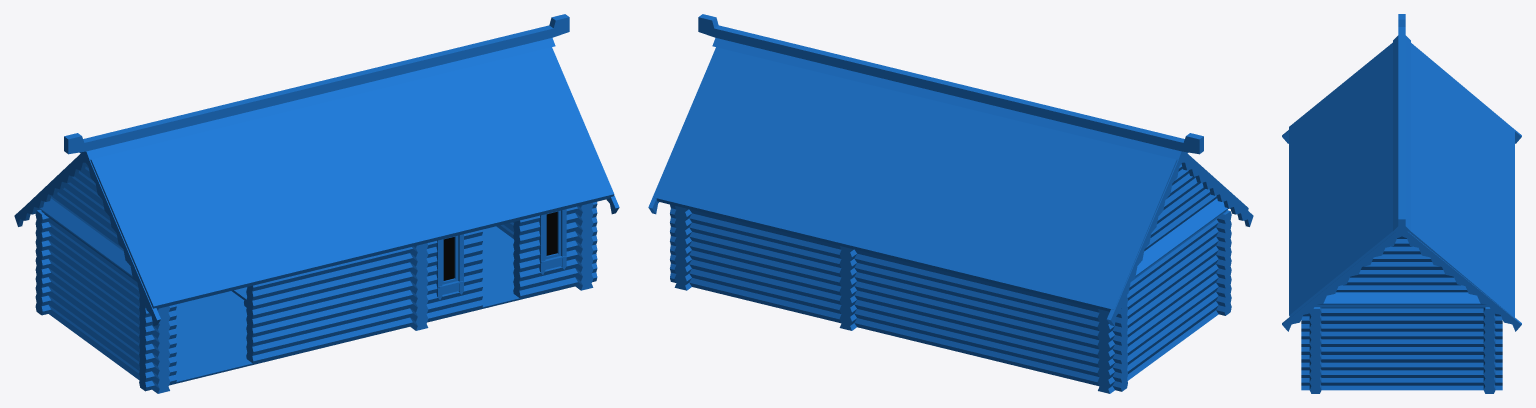
Rendered from SM_house_3.fbx.
3 renders of one model, left to right at view 1: azimuth 30°, elevation 25°; view 2: azimuth 150°, elevation 25°; view 3: azimuth 270°, elevation 25°, orthographic. The views are drawn at different scales.
Parts seen in each view (by area): view 1: Cloner_5; view 2: Cloner_5; view 3: Cloner_5.
Boxes of the visible parts, bbox=[...] form: Cloner_5: bbox=[14, 14, 619, 393]; Cloner_5: bbox=[648, 14, 1253, 393]; Cloner_5: bbox=[1282, 14, 1521, 393].
Size of the model in its own units: 1209 by 508 by 597.
